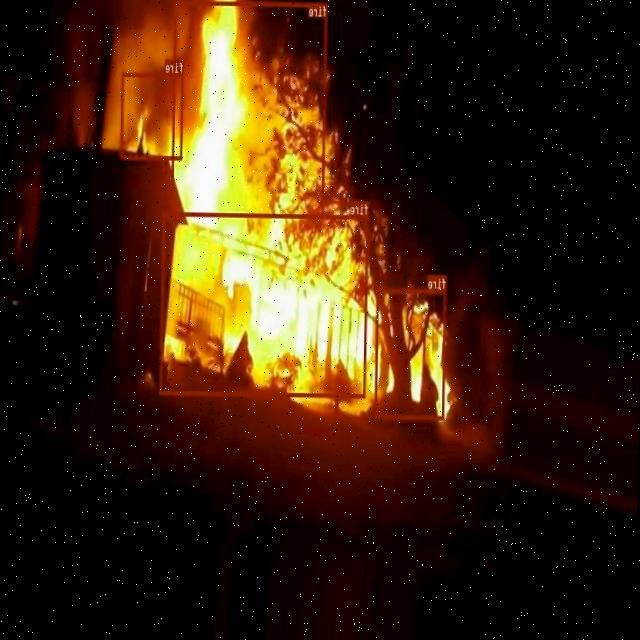fire: (160, 210, 369, 397), (171, 0, 327, 217), (374, 288, 446, 418), (120, 72, 183, 158)
